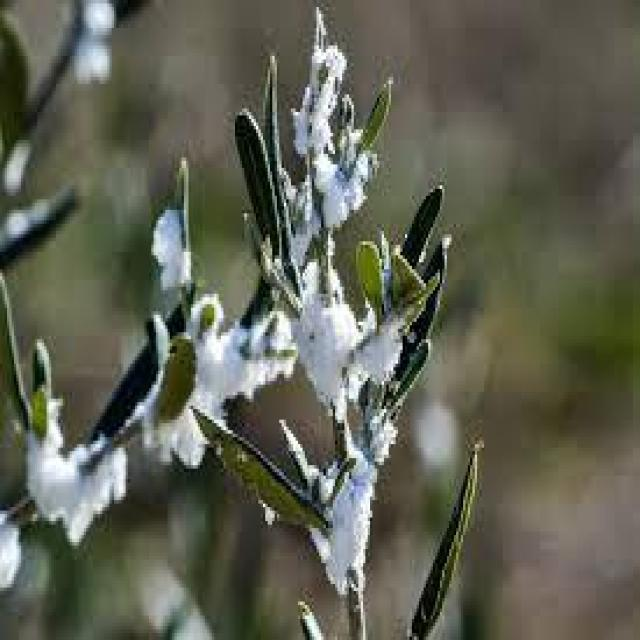Psyllid: (277, 14, 391, 262), (142, 290, 296, 465), (279, 409, 396, 637), (23, 343, 126, 542), (293, 269, 403, 420), (151, 206, 189, 297), (0, 500, 24, 595)
